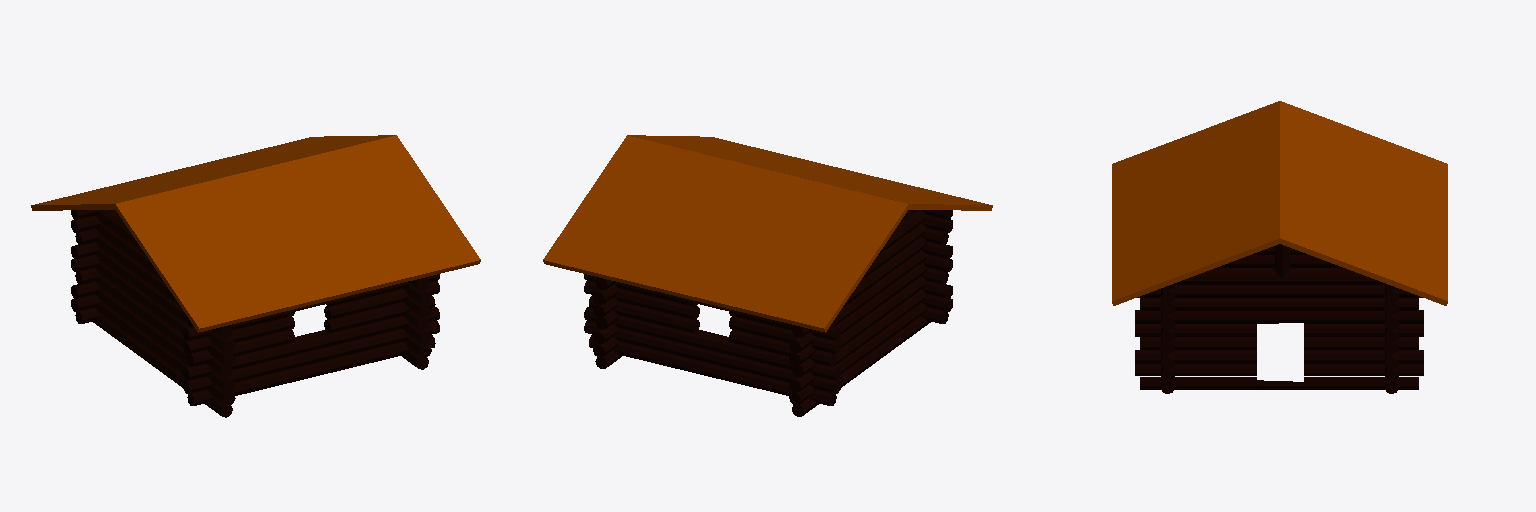
File: wooden_house.obj
3 renders of one model, left to right at view 1: azimuth 30°, elevation 25°; view 2: azimuth 150°, elevation 25°; view 3: azimuth 270°, elevation 25°, orthographic.
Parts seen in each view (by area): view 1: roof_Cube.003, sidewall2_Cylinder.038, backwall_Cylinder.031, sidewall1_Cylinder.037, frontwall_Cylinder.035; view 2: roof_Cube.003, sidewall1_Cylinder.037, backwall_Cylinder.031, sidewall2_Cylinder.038, frontwall_Cylinder.035; view 3: roof_Cube.003, frontwall_Cylinder.035, backwall_Cylinder.031, sidewall1_Cylinder.037, sidewall2_Cylinder.038.
Part boxes in pixels (bbox=[...]): roof_Cube.003: bbox=[31, 135, 480, 332]; sidewall2_Cylinder.038: bbox=[183, 274, 439, 405]; backwall_Cylinder.031: bbox=[93, 210, 235, 417]; sidewall1_Cylinder.037: bbox=[71, 210, 122, 323]; frontwall_Cylinder.035: bbox=[402, 276, 431, 369]; roof_Cube.003: bbox=[543, 135, 992, 332]; sidewall1_Cylinder.037: bbox=[584, 274, 840, 405]; backwall_Cylinder.031: bbox=[789, 210, 930, 416]; sidewall2_Cylinder.038: bbox=[901, 210, 952, 323]; frontwall_Cylinder.035: bbox=[593, 277, 621, 368]; roof_Cube.003: bbox=[1112, 101, 1447, 305]; frontwall_Cylinder.035: bbox=[1135, 271, 1423, 389]; backwall_Cylinder.031: bbox=[1209, 246, 1350, 270]; sidewall1_Cylinder.037: bbox=[1385, 283, 1398, 393]; sidewall2_Cylinder.038: bbox=[1161, 283, 1174, 393].
Size of the model in its own units: 11.25 by 6.6 by 11.65.